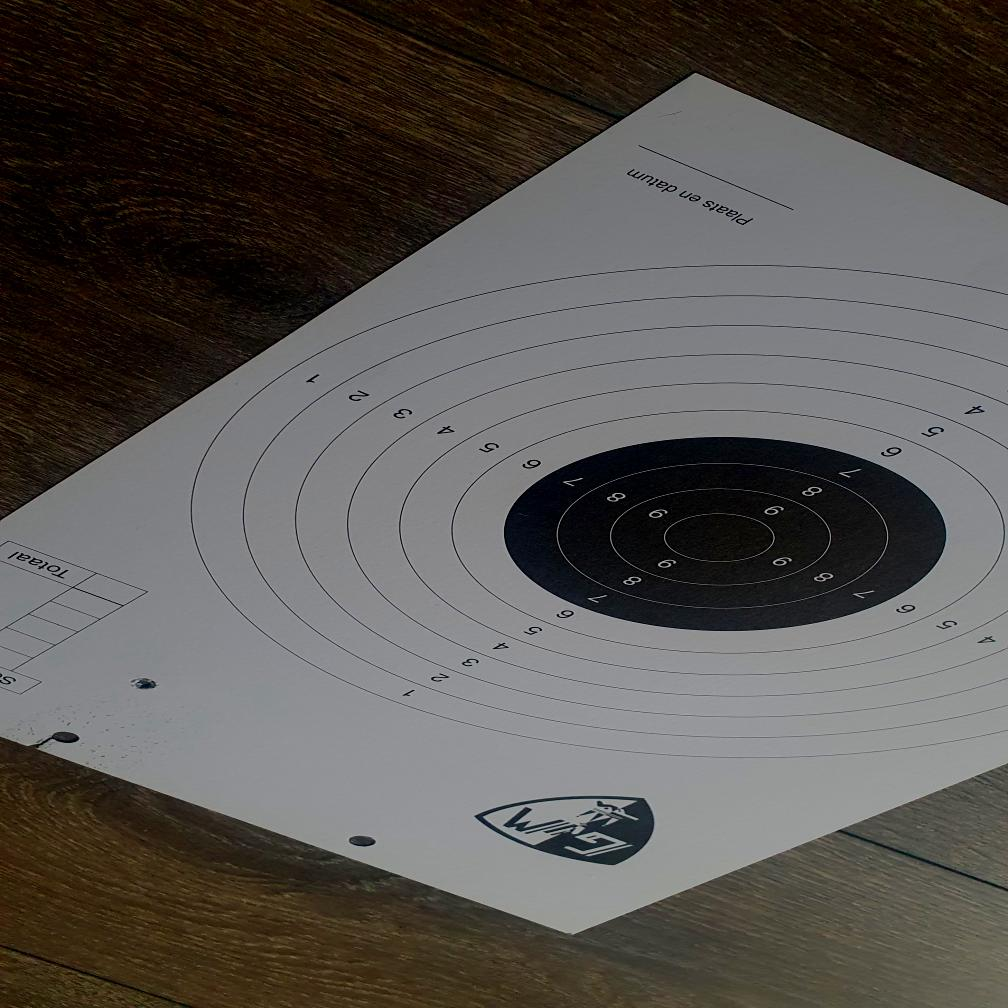0: (125, 673, 160, 693)
Target: (186, 264, 1004, 757)
black_contour: (504, 436, 946, 632)
